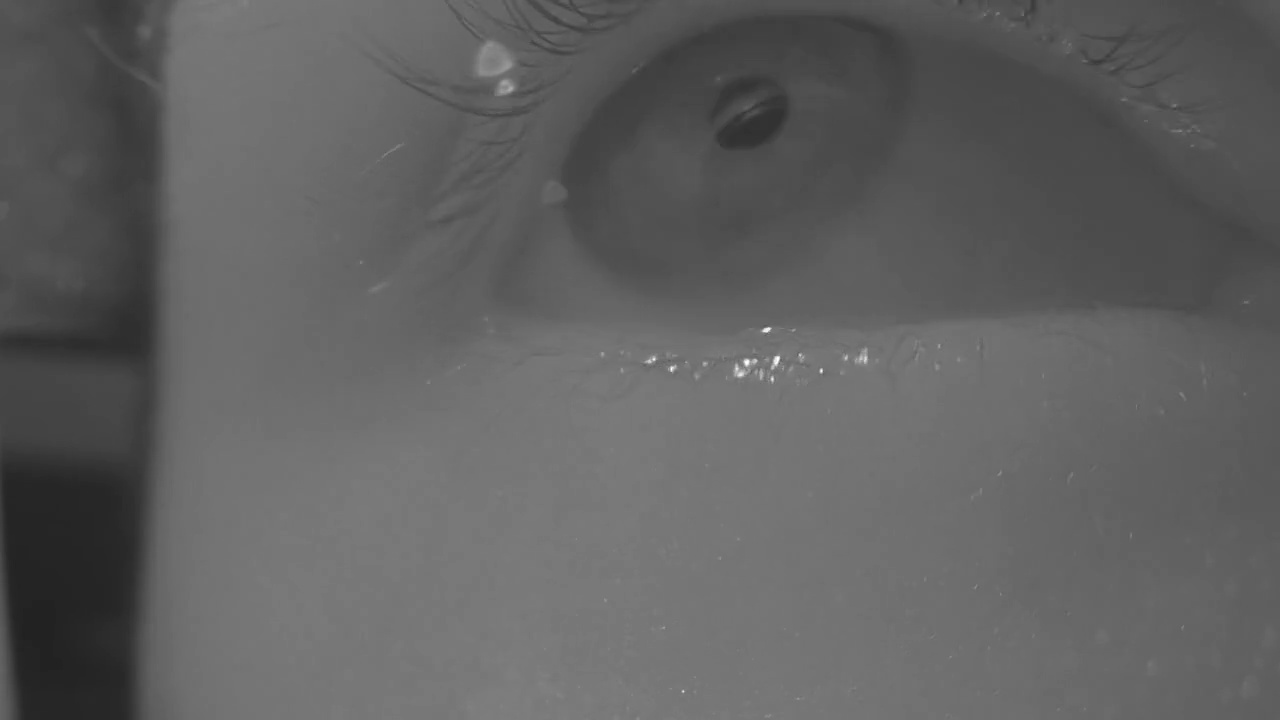pupil: (709, 78, 786, 149)
